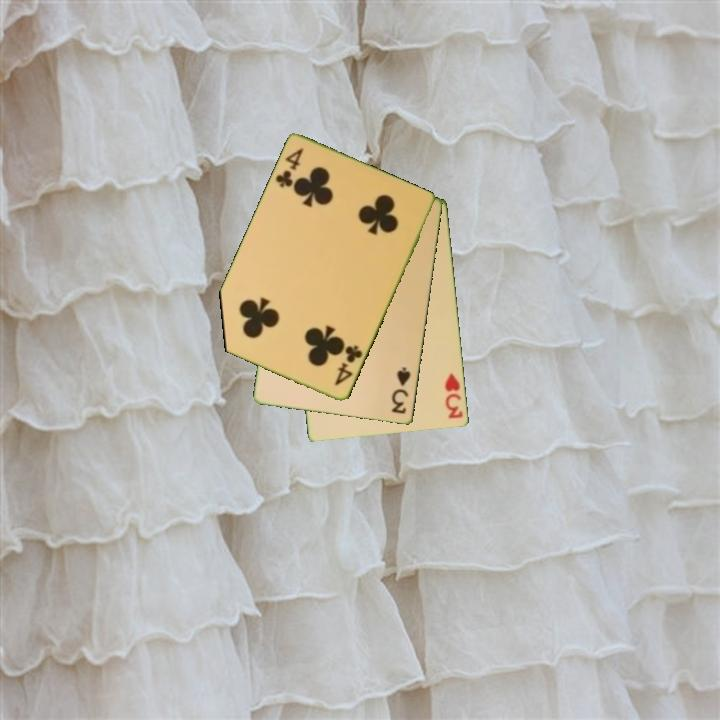3h: (441, 369, 466, 422)
3s: (389, 364, 414, 417)
4c: (272, 145, 307, 191), (331, 342, 365, 389)
